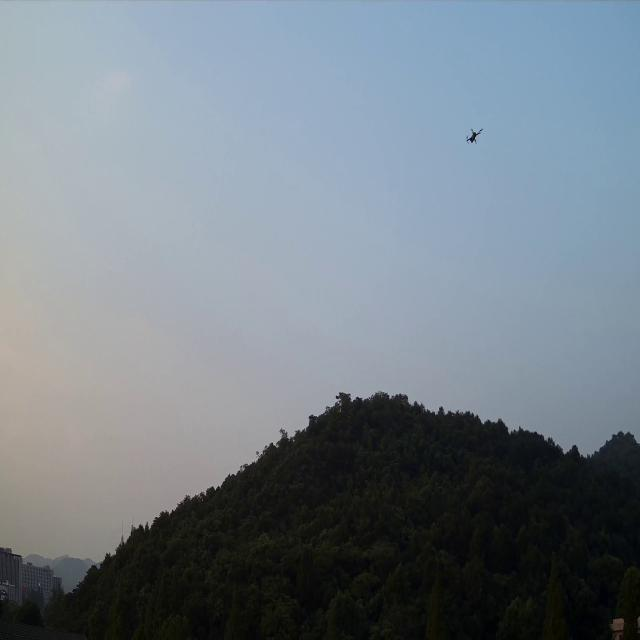UAV: (466, 125, 482, 145)
